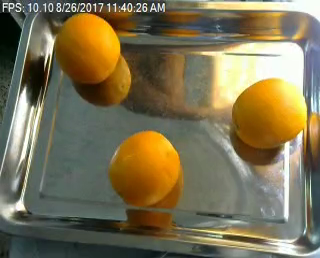Orange: (107, 130, 180, 207), (232, 77, 309, 147), (54, 12, 121, 83)
